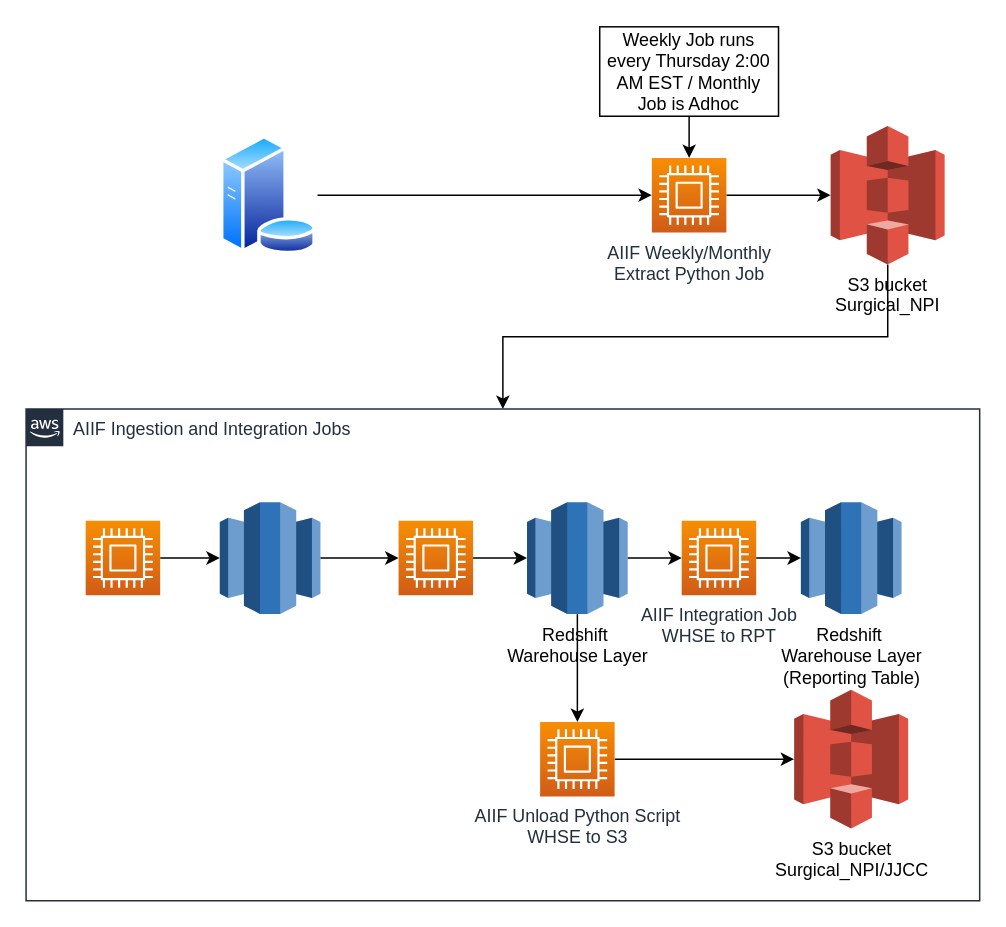
The diagram is 1006 pixels wide and 927 high, and some of its shapes have lost their labels. The centre of each missing label's shape, as x and y in pixels:
"AIIF Ingestion Job S3 to STG" goes at (122,557).
"AIIF Integration Job STG to WHSE" goes at (435,557).
"NPI Gov Server (https://download.cms.gov/nppes/NPI_Files.html)" goes at (268,194).
"Redshift Staging Layer" goes at (269,557).
